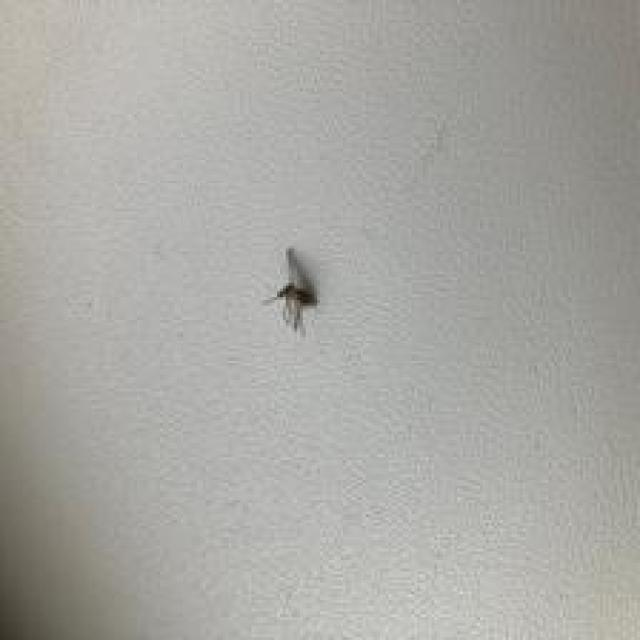Culex: (263, 244, 320, 336)
